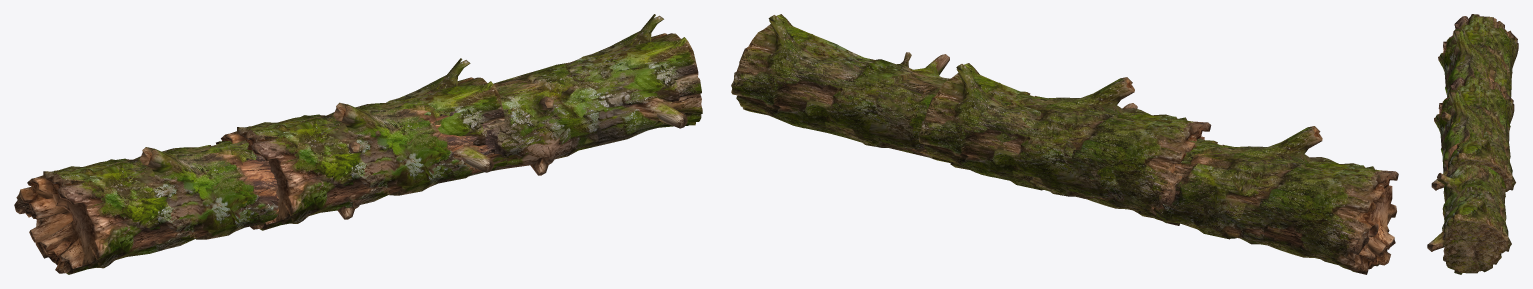
File: ADP_Tutorial_JumpObstacle.fbx
3 views of the same model, side by side, from view 1: azimuth 30°, elevation 25°; view 2: azimuth 150°, elevation 25°; view 3: azimuth 270°, elevation 25° (orthographic). The views are drawn at different scales.
Visible parts, largest first — view 1: FallenLog1_0, FallenLog0_0; view 2: FallenLog0_0, FallenLog1_0; view 3: FallenLog1_0, FallenLog0_0.
Boxes of the visible parts, x1=… form: FallenLog1_0: x1=221, y1=14, x2=702, y2=230; FallenLog0_0: x1=14, y1=58, x2=508, y2=274; FallenLog0_0: x1=919, y1=63, x2=1398, y2=274; FallenLog1_0: x1=731, y1=14, x2=1211, y2=225; FallenLog1_0: x1=1427, y1=75, x2=1514, y2=274; FallenLog0_0: x1=1431, y1=14, x2=1518, y2=196.
Size of the model in its own units: 3.5 by 0.6 by 0.6588.
